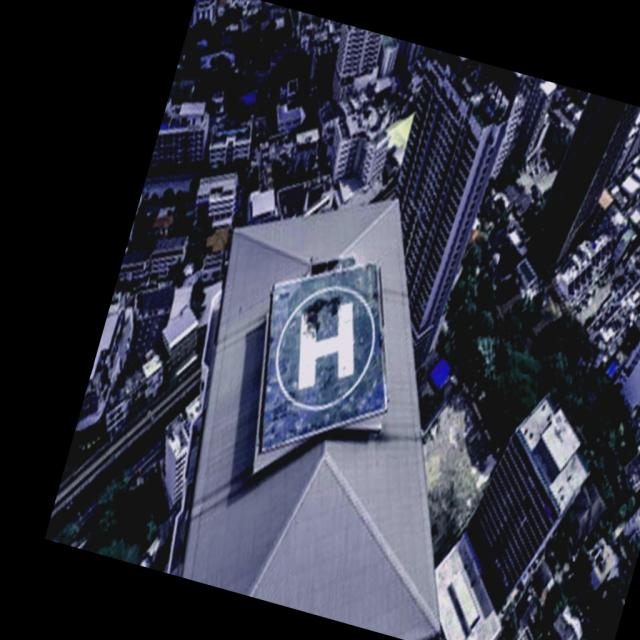helipad: (272, 280, 378, 412)
